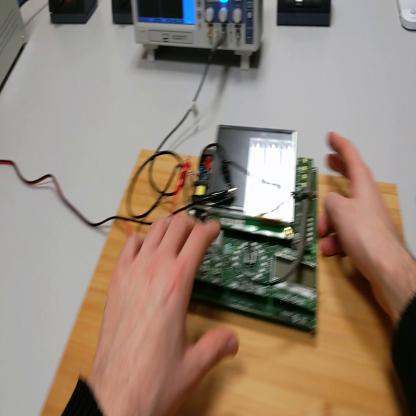hand: (90, 207, 241, 414), (317, 131, 399, 292)
low voltage board: (187, 130, 320, 337)
oscilloscope: (132, 2, 265, 69)
oscilloscope probe tip: (293, 164, 313, 272)
power supply: (1, 1, 29, 94)
socket: (49, 1, 99, 28), (113, 1, 134, 28)
working area: (45, 153, 406, 416)
